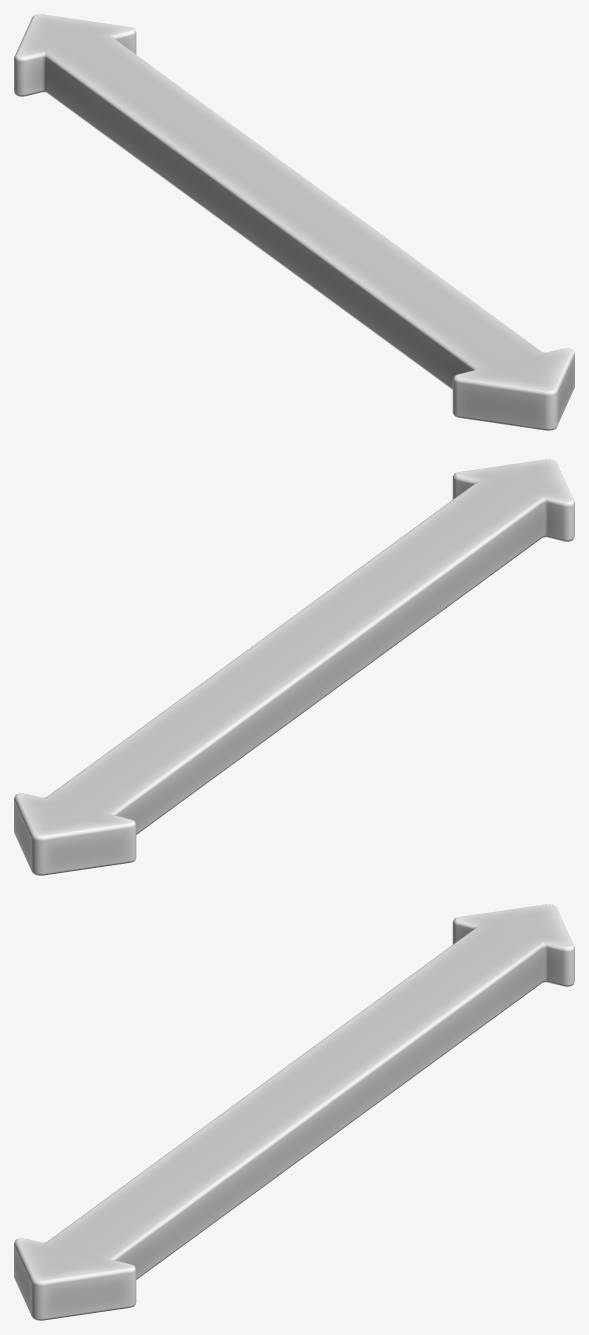
File: Arrow_03.fbx
3 renders of one model, top to bottom at view 1: azimuth 30°, elevation 25°; view 2: azimuth 150°, elevation 25°; view 3: azimuth 330°, elevation 25°, orthographic.
Parts seen in each view (by area): view 1: Arrow; view 2: Arrow; view 3: Arrow.
Boxes of the visible parts, x1,y1,x2,y2 form: Arrow: (14, 14, 574, 430); Arrow: (14, 459, 574, 875); Arrow: (14, 904, 574, 1320).
Bounding box in the file's own units: 0.3489 × 0.1106 × 2.6.
Materials: 1 (1 with a texture image).
